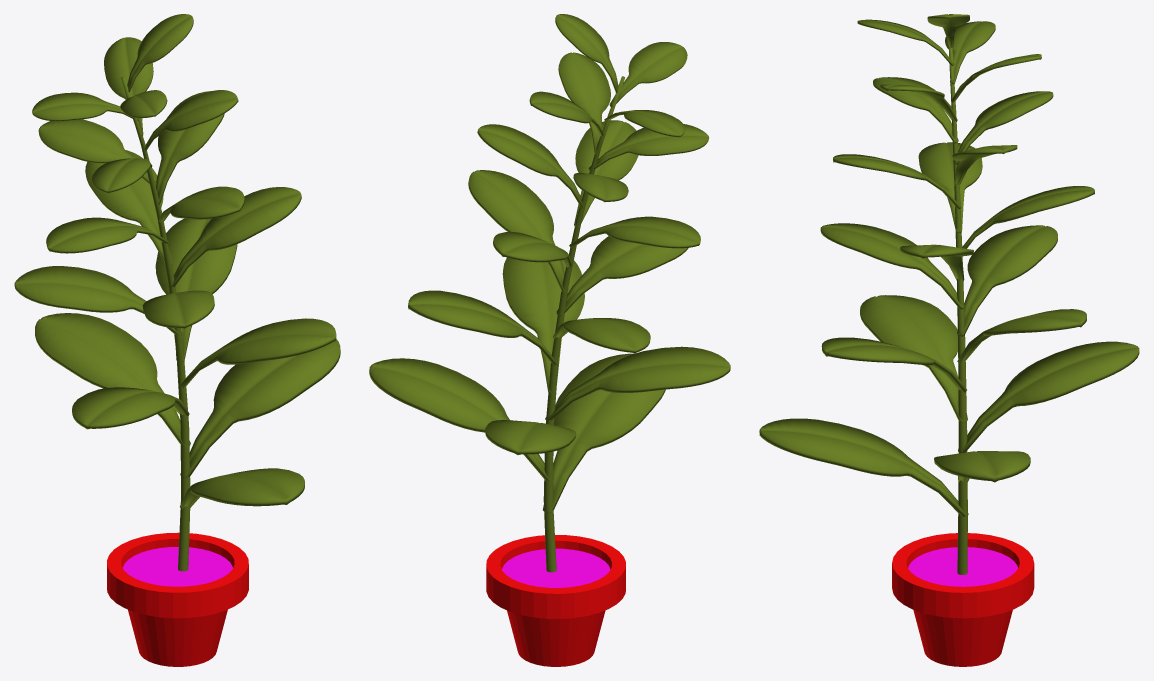
Rendered from planta_low.fbx.
3 renders of one model, left to right at view 1: azimuth 30°, elevation 25°; view 2: azimuth 150°, elevation 25°; view 3: azimuth 270°, elevation 25°, orthographic.
Parts seen in each view (by area): view 1: hoja, maceta.001, tallo; view 2: hoja, maceta.001, tallo; view 3: hoja, maceta.001, tallo.
Part boxes in pixels (x1,y1,x2,y2): hoja: (14, 14, 340, 508); maceta.001: (107, 532, 248, 666); tallo: (121, 77, 190, 571); hoja: (369, 14, 730, 513); maceta.001: (486, 535, 625, 666); tallo: (543, 76, 624, 572); hoja: (759, 14, 1139, 517); maceta.001: (892, 533, 1034, 666); tallo: (948, 47, 967, 574).
Bounding box in the file's own units: 738 × 1450 × 783.
